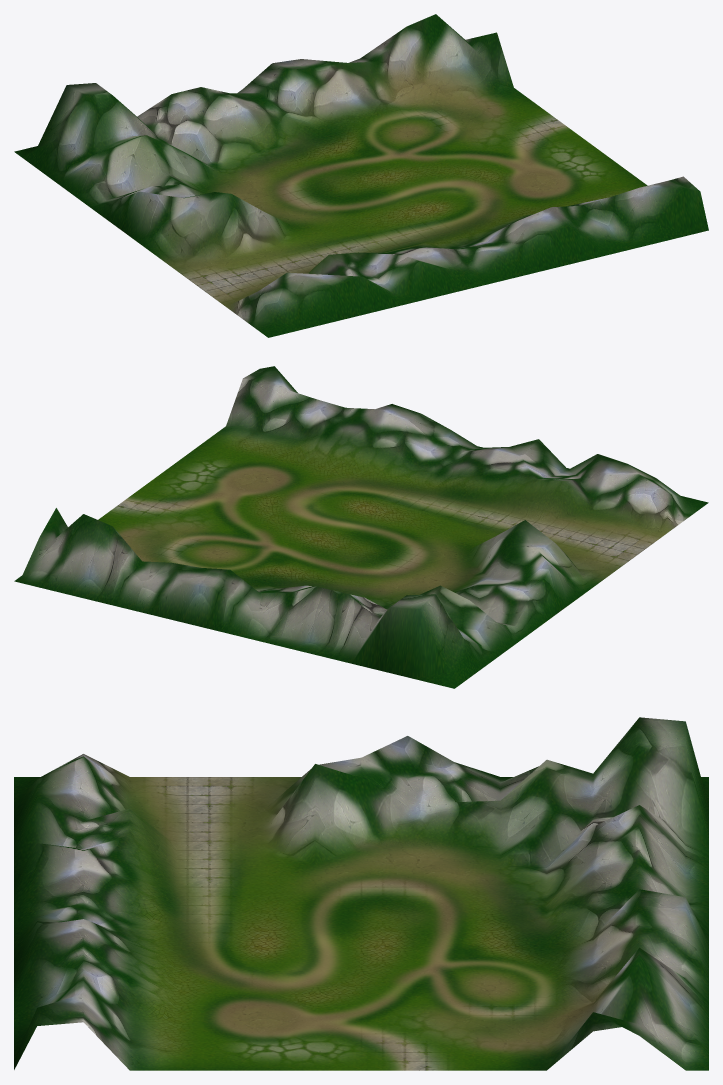
Rendered from SD_Terrain_01.fbx.
3 views of the same model, one above another, from view 1: azimuth 30°, elevation 25°; view 2: azimuth 150°, elevation 25°; view 3: azimuth 270°, elevation 25° (orthographic). The views are drawn at different scales.
Parts seen in each view (by area): view 1: polySurface25; view 2: polySurface25; view 3: polySurface25.
Boxes of the visible parts, x1,y1,x2,y2 form: polySurface25: (14, 14, 708, 337); polySurface25: (14, 366, 708, 688); polySurface25: (14, 717, 708, 1070).
Bounding box in the file's own units: 66 × 9.36 × 66.
